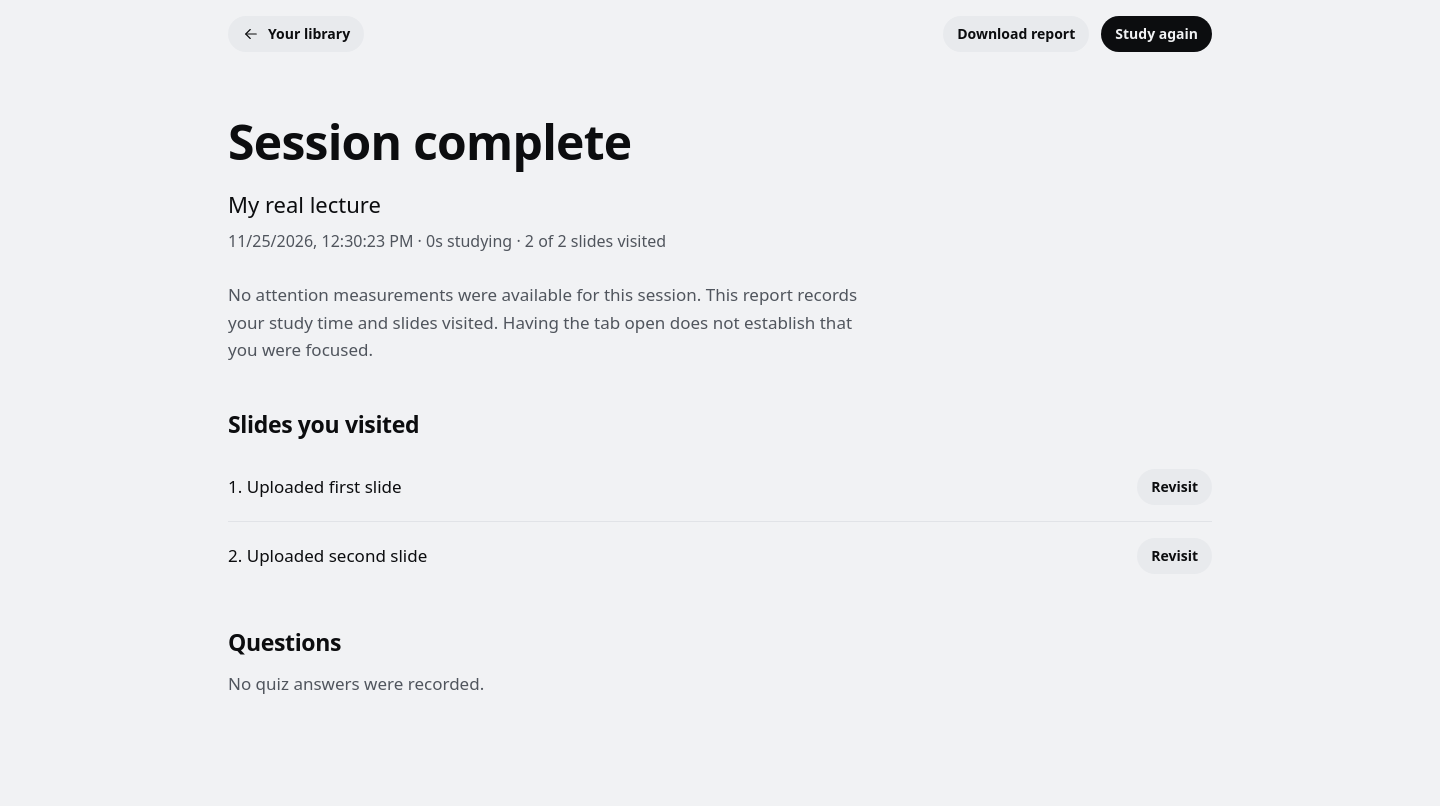
Test case: uploads a real file object, studies, saves an honest report and restores the deck
The width and height of the screenshot is (1440, 806).
Earlier steps of the test are not shown.
Later steps or results of the test are not shown.
Expected: the text "No attention measurements were available" is shown, [228,283,857,361]
Expected: the text "2 of 2 slides visited" is shown, [512,230,666,252]
Click the button "Your library" at (296, 34), box [228,16,364,52]
(page scrolled)
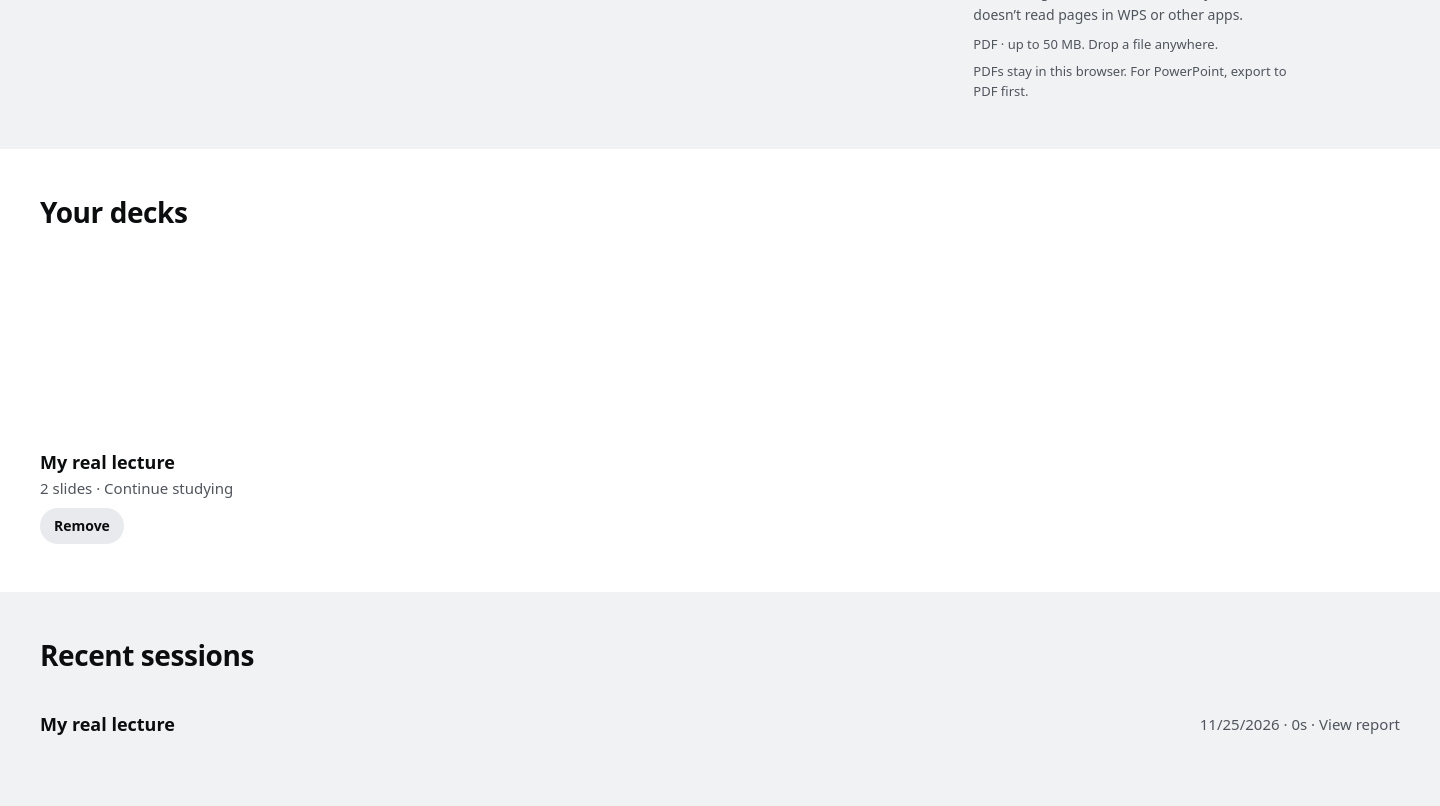
Result: the text "Recent sessions" is shown at [40,636,254,674]
Result: the text "My real lecture" below "Your decks" is shown at [40,450,175,474]
